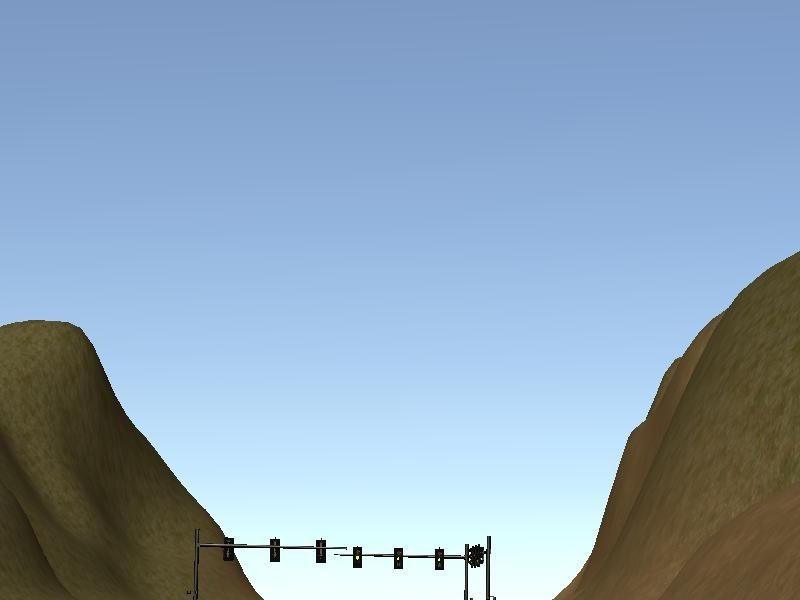traffic_light_yellow: (340, 548, 465, 570)
